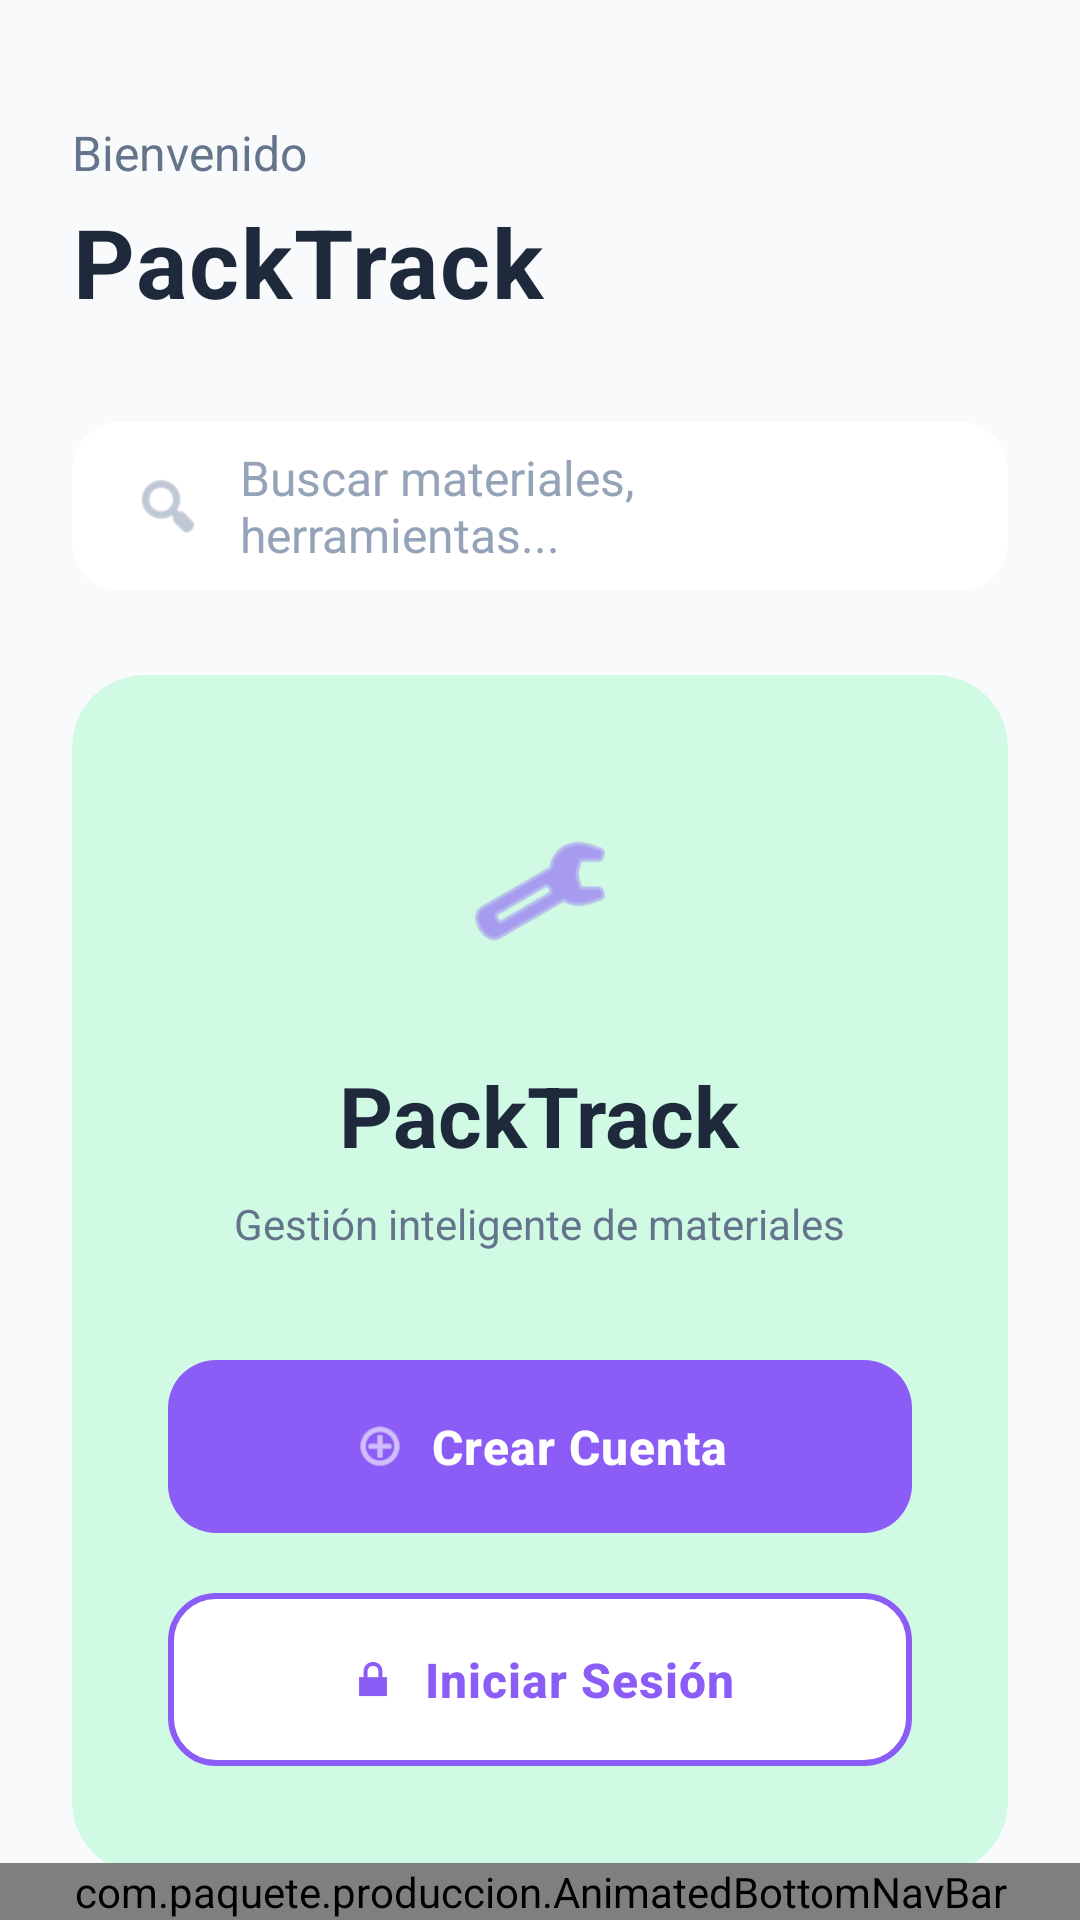

Named icons in this screenshot (1080x1920) and their bounding boxes, rect(x1, y1, x2, y2):
manage: rect(475, 842, 605, 940)
search: rect(142, 480, 194, 533)
